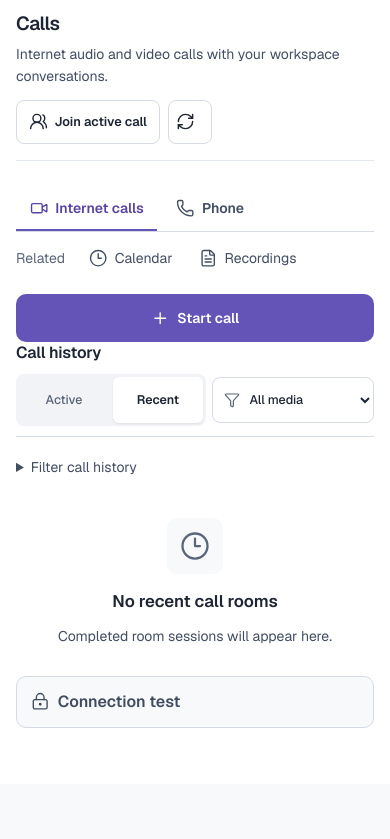
Test case: CallsPage › keeps empty mobile history compact and opens the launcher with keyboard focus
expect the text "No recent call rooms" is shown: met, box [112,590,278,612]
expect the navigation bar named "Call types" is shown: met, box [16,187,374,232]
Click the button "Start call" at (195, 318), box [16,294,374,342]
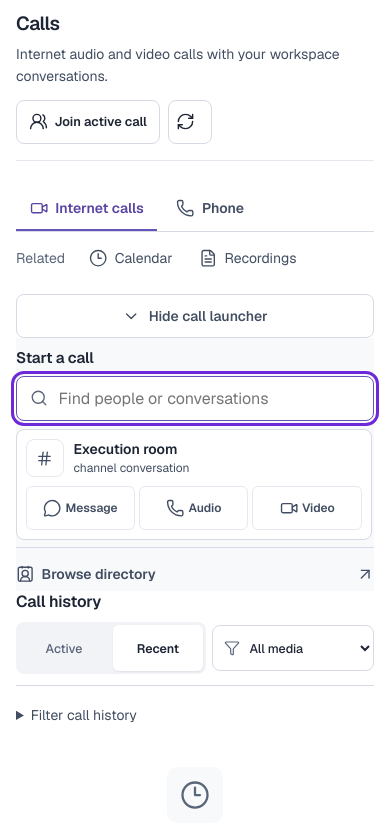
expect the button "Hide call launcher" is shown: met
expect the button "Hide call launcher" is expanded: met
Click the button "Hide call launcher" at (195, 316), box [16,294,374,338]
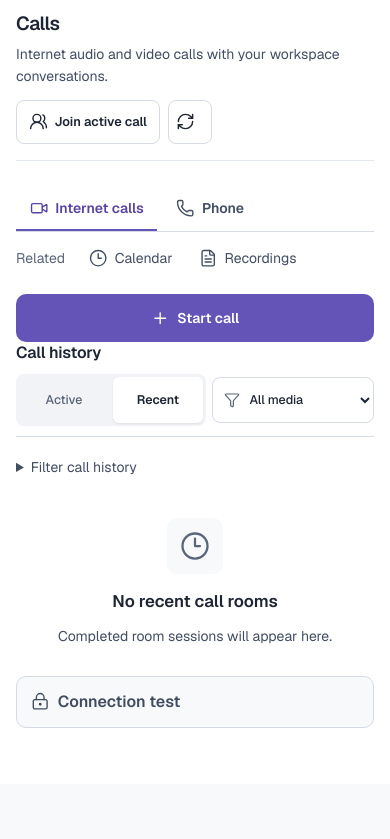
expect the button "Hide call launcher" is collapsed: met, box [16,294,374,342]
